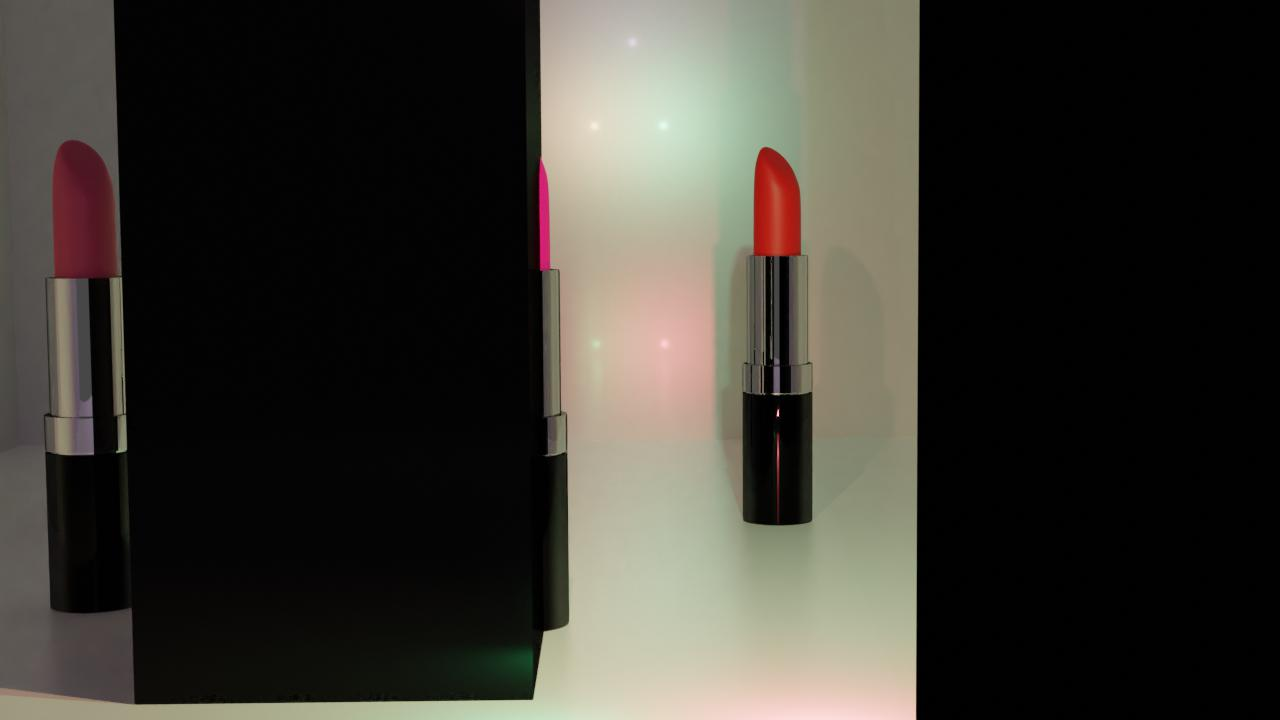CLASSIFIER_NAME: (42, 134, 145, 620), (741, 142, 814, 525)
